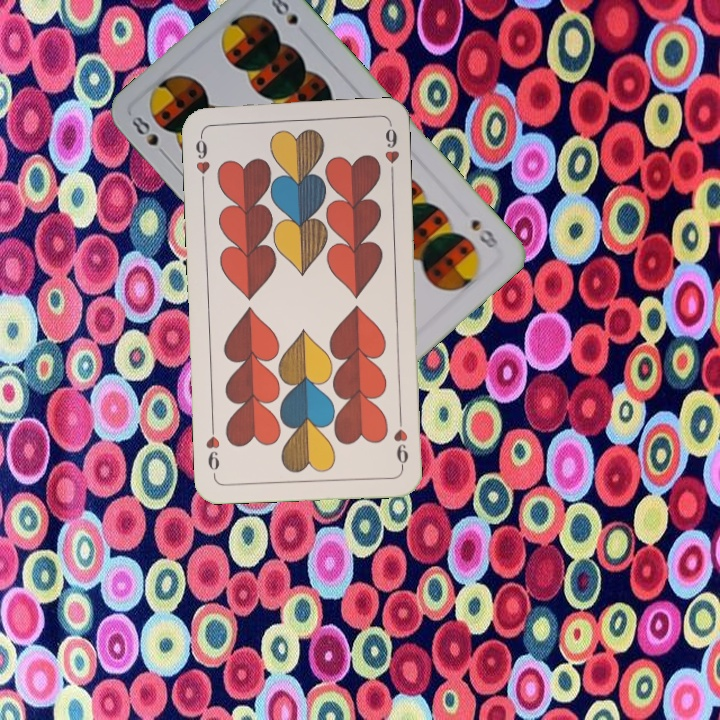H9: (389, 412, 411, 471), (192, 129, 213, 188)
S8: (127, 111, 161, 149), (467, 215, 501, 251)
